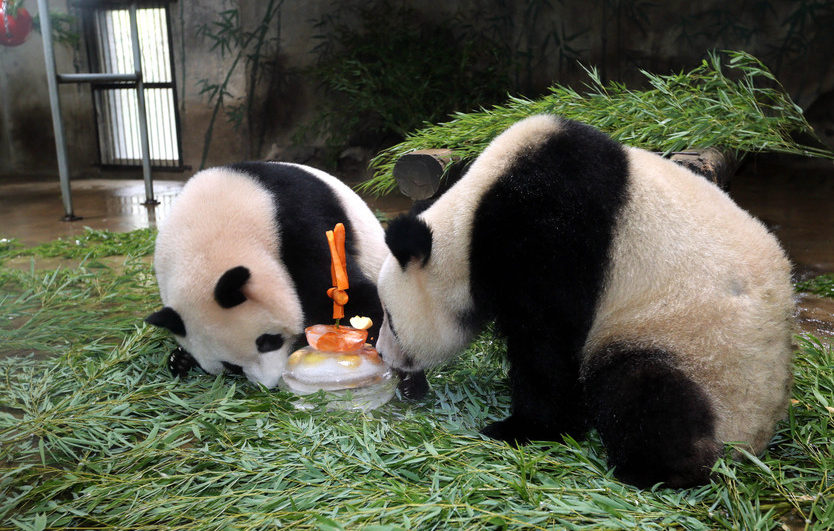panda: (374, 90, 791, 504), (154, 160, 404, 395)
